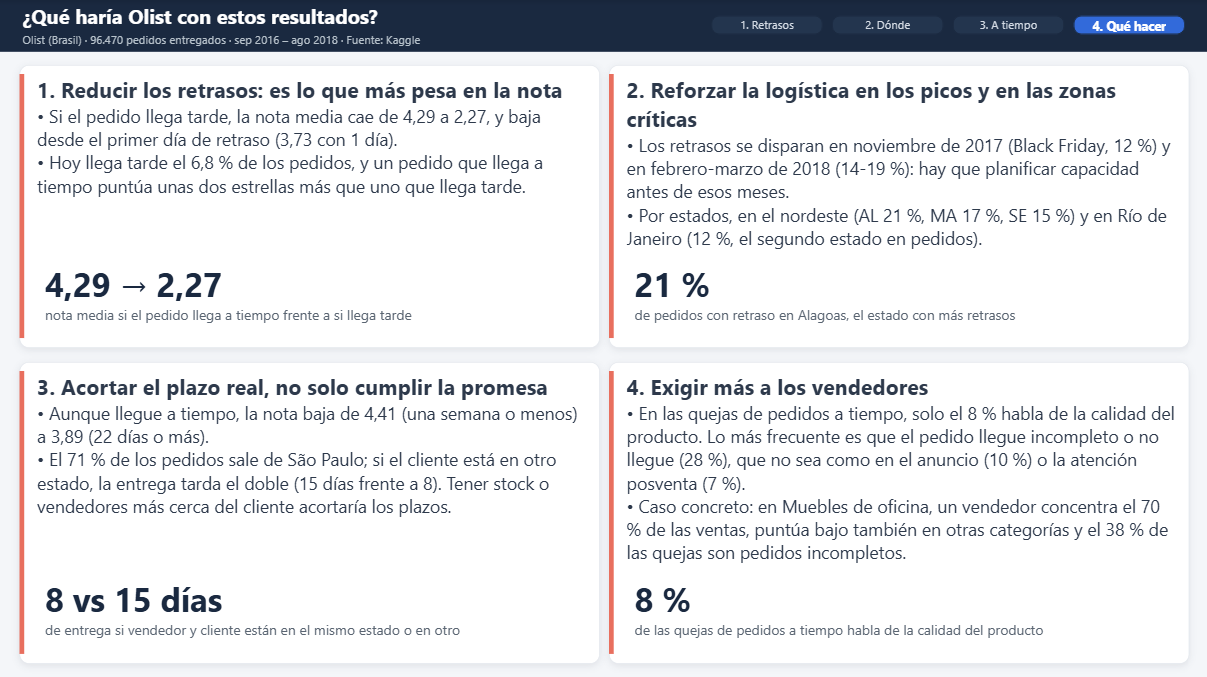

What the dashboard file says about the page in this screenshot:
{"tool":"powerbi","page":{"name":"4. Qué hacer","canvas":[1280,720],"ordinal":3},"visuals":[{"type":"shape","box":[0,0,1280,56],"z":0},{"type":"textbox","box":[20,70,615,300],"z":1000},{"type":"shape","box":[20,80,5,280],"z":1500},{"type":"textbox","box":[48,278,565,80],"z":1600},{"type":"textbox","box":[645,70,615,300],"z":2000},{"type":"shape","box":[645,80,5,280],"z":2500},{"type":"textbox","box":[673,278,565,80],"z":2600},{"type":"textbox","box":[20,385,615,320],"z":3000},{"type":"shape","box":[20,395,5,300],"z":3500},{"type":"textbox","box":[48,613,565,80],"z":3600},{"type":"textbox","box":[645,385,615,320],"z":4000},{"type":"shape","box":[645,395,5,300],"z":4500},{"type":"textbox","box":[673,613,565,80],"z":4600},{"type":"textbox","box":[24,3,700,32],"z":90000},{"type":"pageNavigator","box":[745,10,525,36],"z":90000},{"type":"textbox","box":[24,33,700,20],"z":90000}]}

Visuals, with their boxes in screenshot pixels (x1, y1, x2, y2), scaled from the page's 1280x720 canvas onto the 1207x677 screenshot:
shape: 0 0 1206 53
textbox: 19 66 599 348
shape: 19 75 24 338
textbox: 45 261 578 337
textbox: 608 66 1188 348
shape: 608 75 613 338
textbox: 635 261 1167 337
textbox: 19 362 599 663
shape: 19 371 24 653
textbox: 45 576 578 652
textbox: 608 362 1188 663
shape: 608 371 613 653
textbox: 635 576 1167 652
textbox: 23 3 683 33
pageNavigator: 703 9 1198 43
textbox: 23 31 683 50
